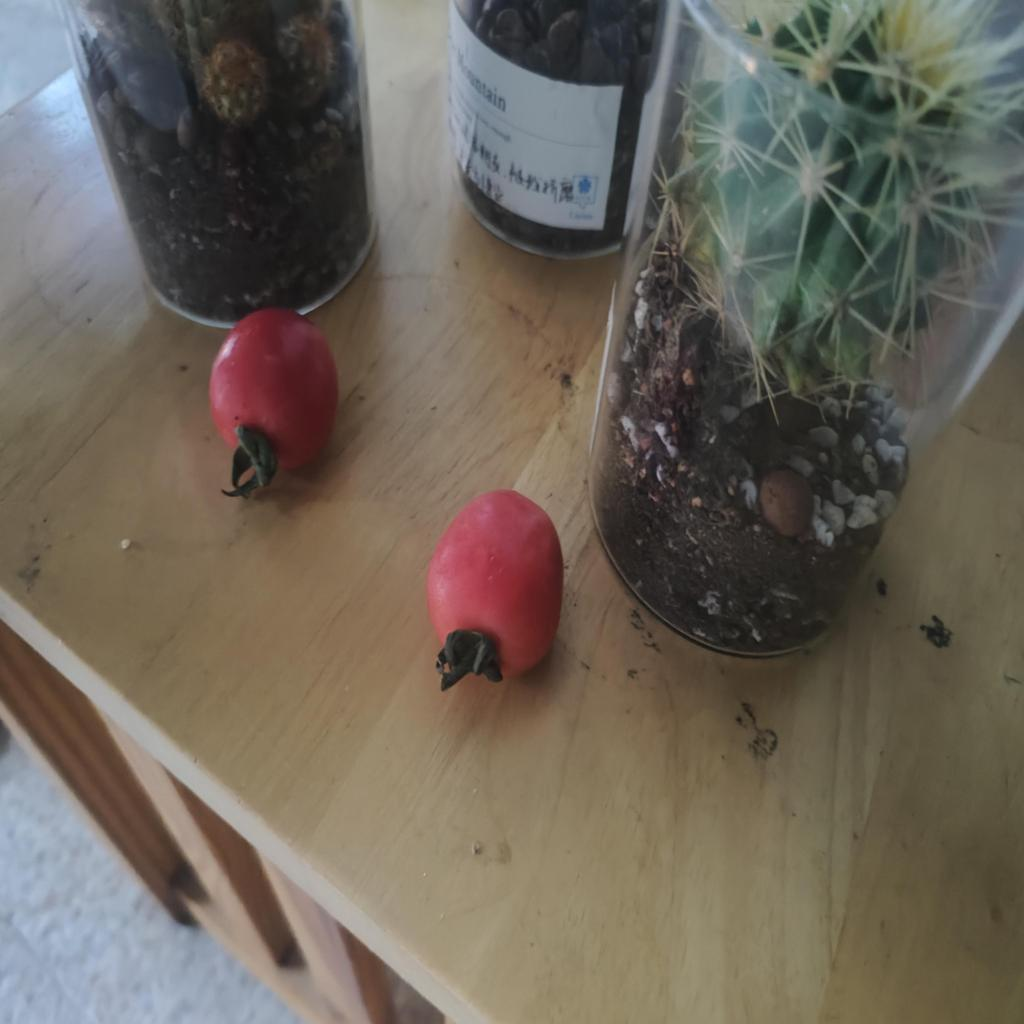tomato: (427, 483, 570, 689), (203, 315, 337, 488)
